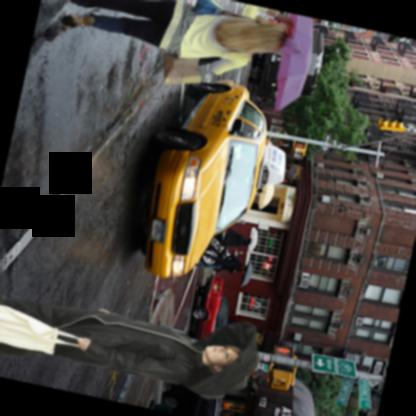handbag: (0, 304, 80, 354), (162, 53, 215, 84), (193, 0, 253, 19)
